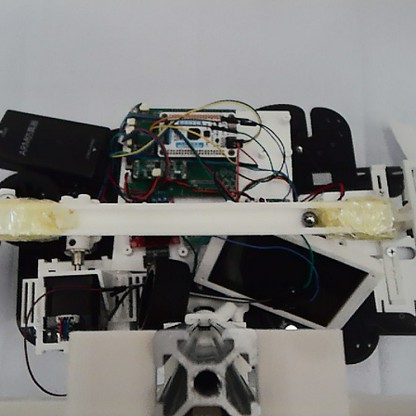ironball: (298, 209, 319, 228)
